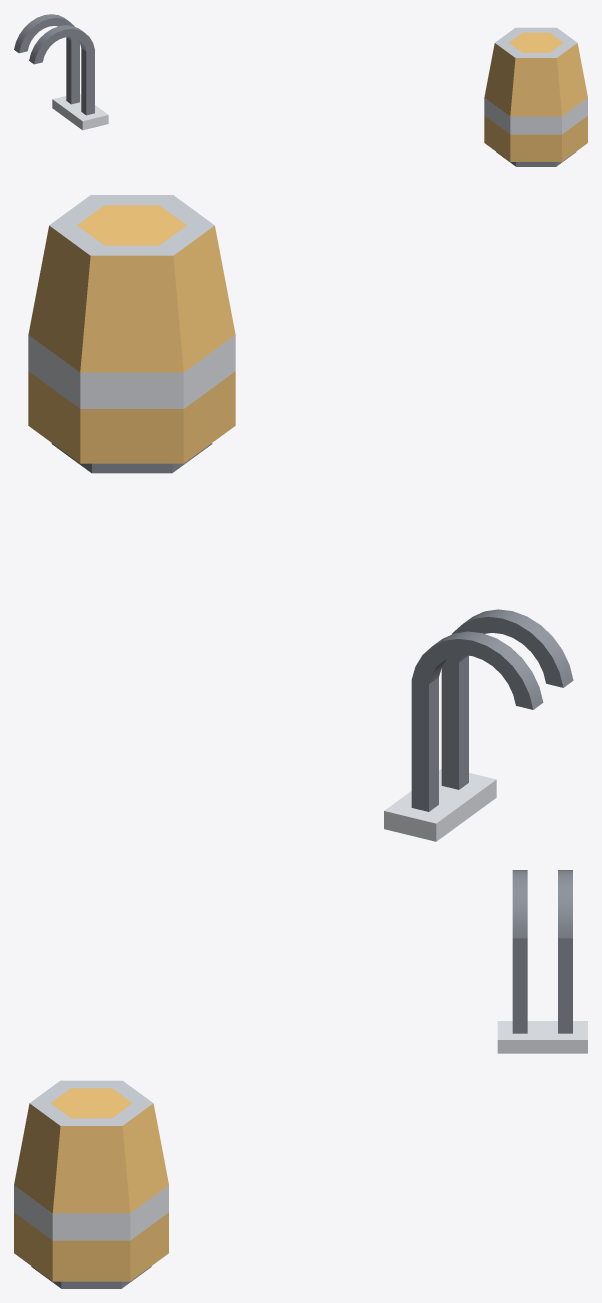
Rendered from machine_barrel.glb.
The picture shows the model from 3 angles, top to bottom: view 1: azimuth 30°, elevation 25°; view 2: azimuth 150°, elevation 25°; view 3: azimuth 270°, elevation 25°; orthographic projection. The views are drawn at different scales.
Parts seen in each view (by area): view 1: machine_barrel, cables; view 2: machine_barrel, cables; view 3: machine_barrel, cables.
Boxes of the visible parts, x1,y1,x2,y2 form: machine_barrel: (484, 27, 587, 166); cables: (14, 14, 108, 130); machine_barrel: (28, 195, 235, 473); cables: (384, 609, 573, 841); machine_barrel: (14, 1080, 168, 1288); cables: (497, 870, 587, 1053).
Bounding box in the file's own units: 2.3 × 0.6 × 1.91.
